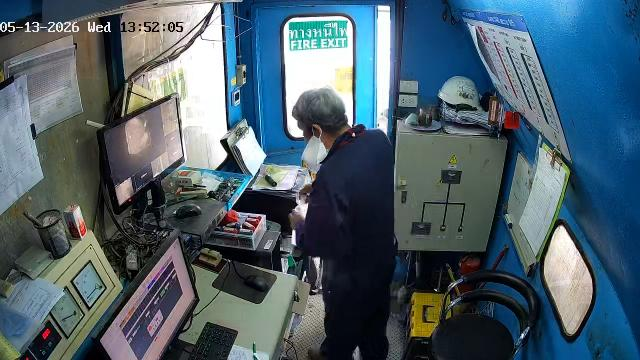Head: (292, 87, 349, 148)
People: (291, 88, 396, 359)
